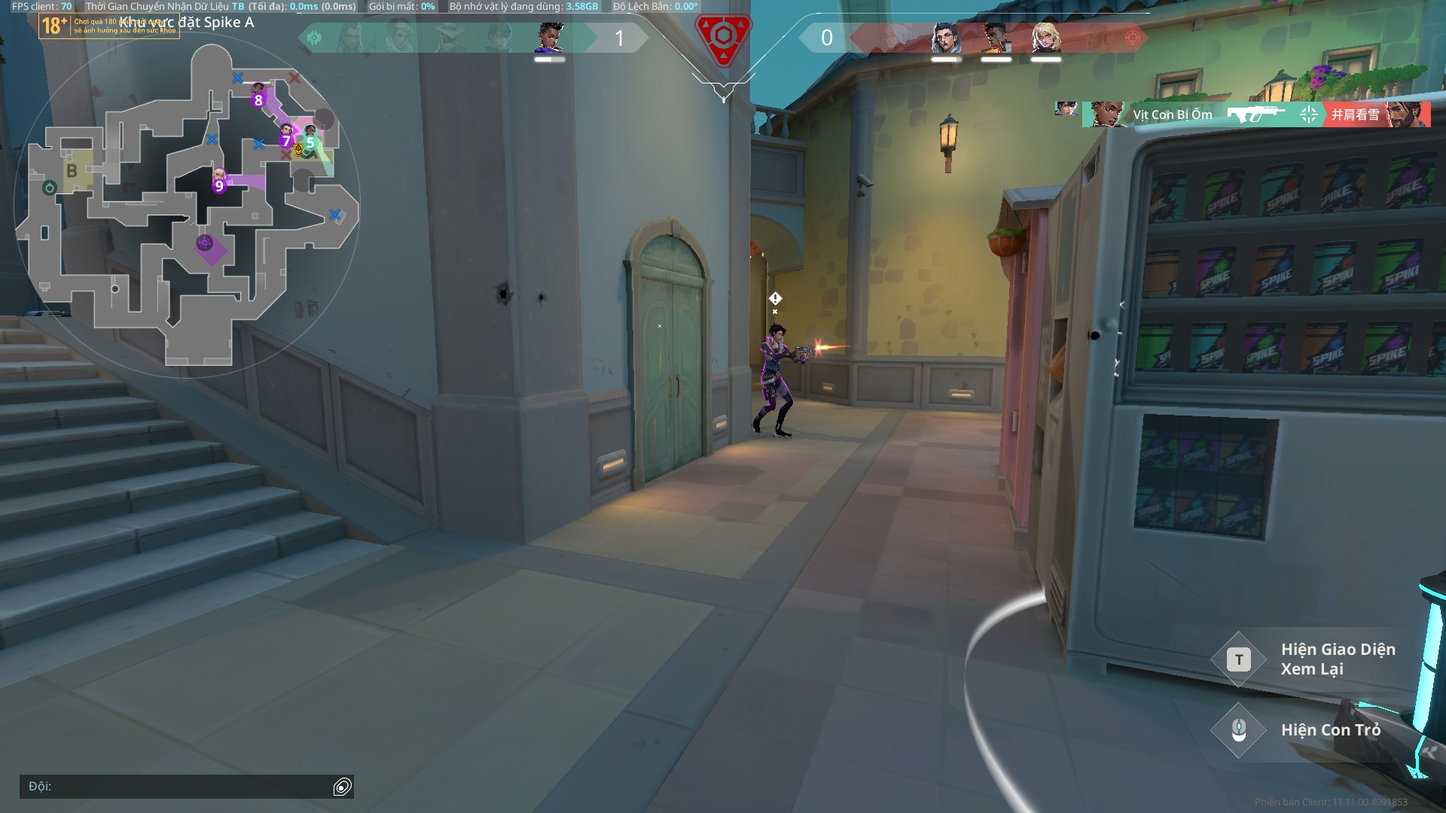body: (761, 337, 786, 372)
head: (769, 324, 787, 342)
